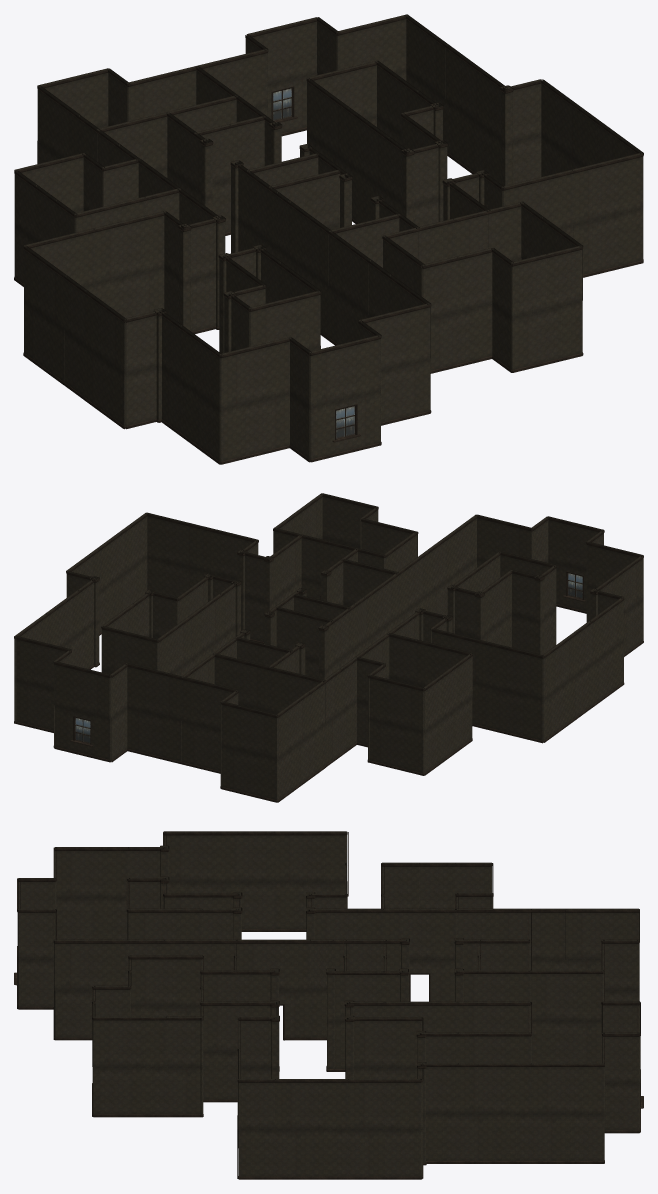
The model's file is map1_mvp3.fbx.
The picture shows the model from 3 angles, top to bottom: view 1: azimuth 30°, elevation 25°; view 2: azimuth 150°, elevation 25°; view 3: azimuth 270°, elevation 25°; orthographic projection. The views are drawn at different scales.
Parts seen in each view (by area): view 1: wall_2_1.038, wall_2_1.051, wall_2_1.063, wall_2_1.077, wall_1_1_half.056, wall_1_1_half.049, wall_2_1.033, wall_2_1.052, wall_2_1.088, wall_1_1_half.054, wall_1_1_half.072, wall_2_1.085 (+72 smaller); view 2: wall_2_1.033, wall_2_1.038, wall_2_1.080, wall_2_1.051, wall_2_1.063, wall_2_1.075, wall_2_1.057, wall_2_1.088, wall_2_1.077, wall_2_1.065, wall_1_1_half.049, wall_2_1.037 (+65 smaller); view 3: wall_1_1_half.083, wall_1_1_half.054, wall_2_1.063, wall_1_1_half.056, wall_1_1_half.089, wall_2_1.075, wall_2_1.088, wall_2_1.041, wall_2_1.093, wall_2_1.035, wall_2_1.077, wall_1_1_half.034 (+39 smaller).
Part boxes in pixels (x1,y1,x2,y2): wall_2_1.038: (502, 152, 643, 228); wall_2_1.051: (23, 211, 165, 286); wall_2_1.063: (23, 245, 126, 374); wall_2_1.077: (23, 301, 124, 429); wall_1_1_half.056: (404, 14, 507, 139); wall_1_1_half.049: (306, 78, 409, 202); wall_2_1.033: (127, 49, 268, 121); wall_2_1.052: (383, 201, 523, 263); wall_2_1.088: (328, 230, 431, 358); wall_1_1_half.054: (540, 79, 643, 207); wall_1_1_half.072: (511, 245, 582, 318); wall_2_1.085: (309, 335, 381, 407); wall_2_1.033: (125, 663, 238, 729); wall_2_1.038: (146, 512, 258, 578); wall_2_1.080: (127, 707, 220, 773); wall_2_1.051: (431, 628, 543, 699); wall_2_1.063: (542, 597, 624, 699); wall_2_1.075: (276, 656, 357, 758); wall_2_1.057: (213, 653, 325, 724); wall_2_1.088: (396, 514, 478, 616); wall_2_1.077: (543, 641, 624, 742); wall_2_1.065: (277, 701, 356, 802); wall_1_1_half.049: (157, 581, 238, 673); wall_2_1.037: (472, 683, 543, 743); wall_1_1_half.083: (238, 1129, 422, 1179); wall_1_1_half.054: (238, 1079, 421, 1129); wall_2_1.063: (163, 831, 347, 882); wall_1_1_half.056: (420, 1063, 604, 1113); wall_1_1_half.089: (426, 1114, 604, 1163); wall_2_1.075: (456, 908, 639, 959); wall_2_1.088: (53, 939, 237, 990); wall_2_1.041: (92, 1016, 203, 1067); wall_2_1.093: (92, 1067, 203, 1117); wall_2_1.035: (54, 847, 165, 897); wall_2_1.077: (168, 881, 347, 931); wall_1_1_half.034: (381, 862, 492, 908).
Bounding box in the file's own units: 3224 × 600 × 3449.
